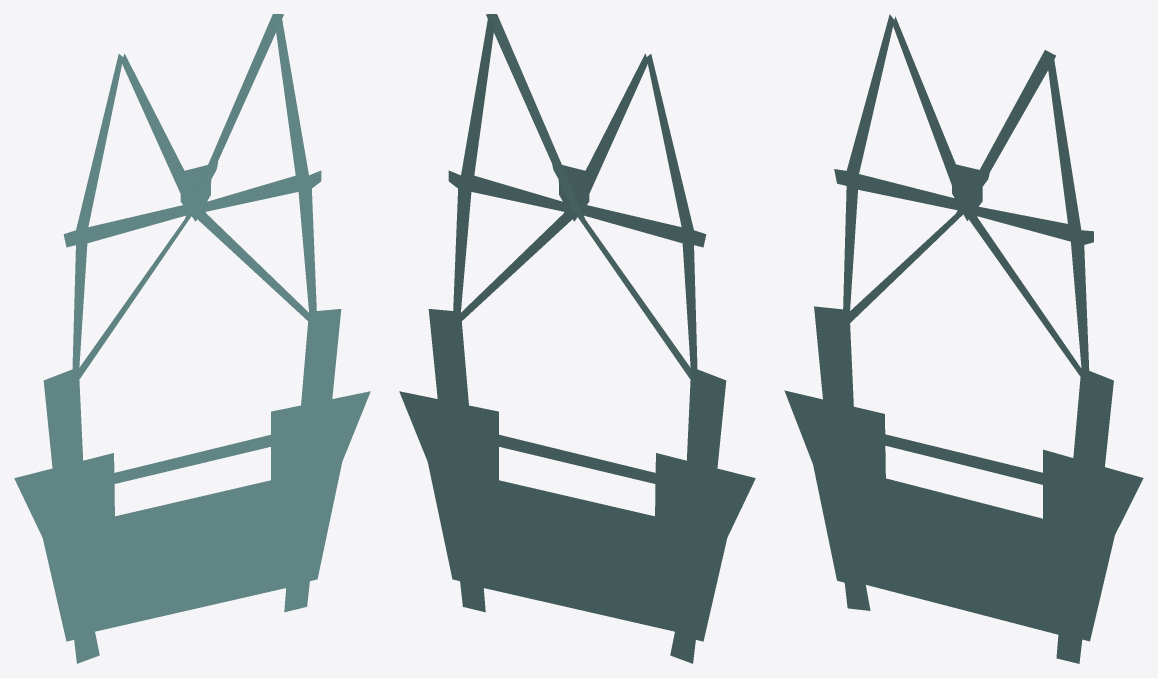
Rendered from HotAirBalloon_basket_LOD1.fbx.
3 renders of one model, left to right at view 1: azimuth 30°, elevation 25°; view 2: azimuth 150°, elevation 25°; view 3: azimuth 330°, elevation 25°, orthographic.
Visible parts, largest first — view 1: Basket_LOD1; view 2: Basket_LOD1; view 3: Basket_LOD1.
Part boxes in pixels (<box>): Basket_LOD1: <box>14,14,370,663</box>; Basket_LOD1: <box>399,14,755,663</box>; Basket_LOD1: <box>784,14,1143,663</box>.
Size of the model in its own units: 4.3 by 6.94 by 0.00997.
